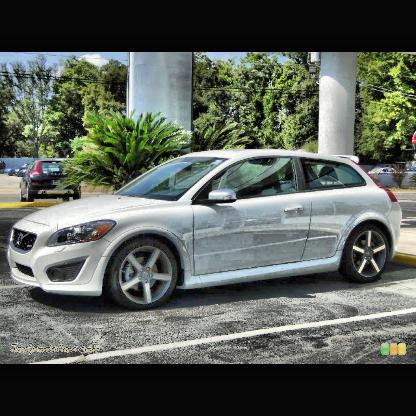Volvo C30 Hatchback 2012: (9, 144, 402, 314)
